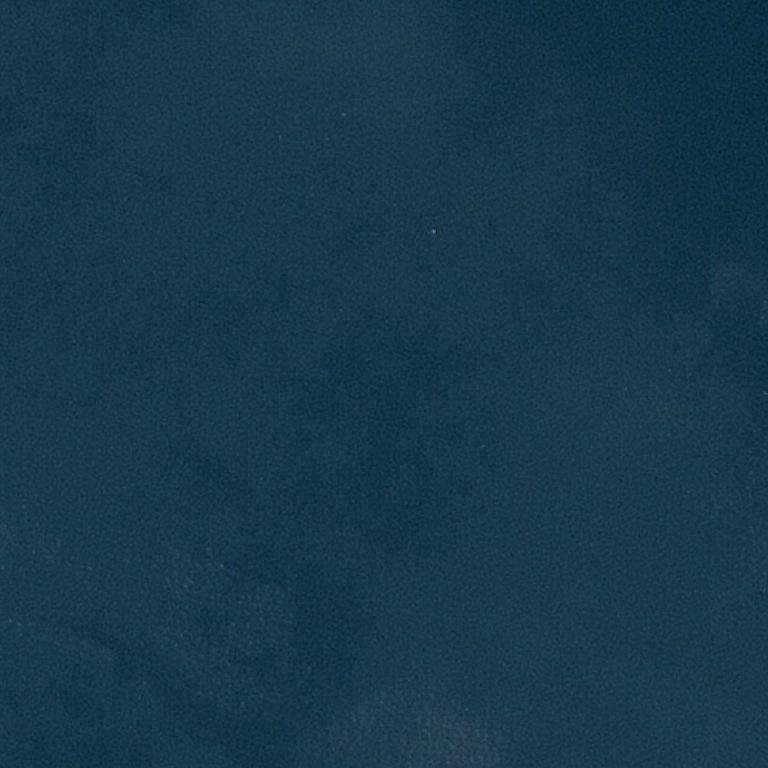ship: (47, 229, 52, 235)
